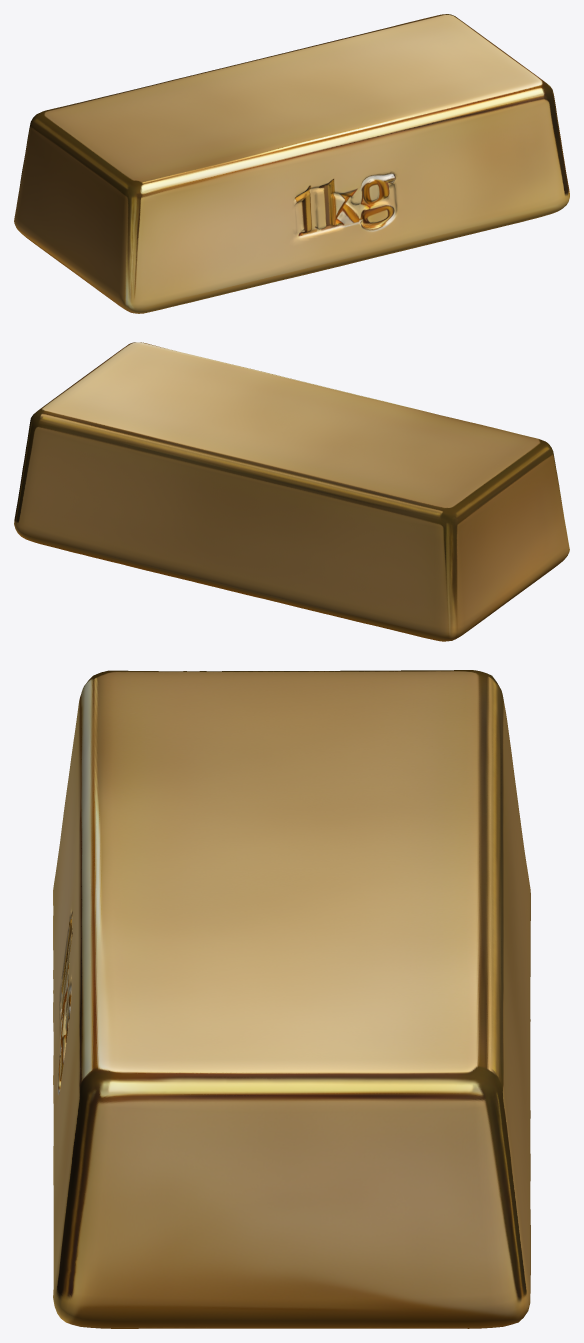
File: umbro.glb
3 renders of one model, top to bottom at view 1: azimuth 30°, elevation 25°; view 2: azimuth 150°, elevation 25°; view 3: azimuth 270°, elevation 25°, orthographic. The views are drawn at different scales.
Parts seen in each view (by area): view 1: model; view 2: model; view 3: model.
Boxes of the visible parts, bbox=[...] form: model: bbox=[14, 14, 569, 313]; model: bbox=[14, 342, 569, 641]; model: bbox=[53, 670, 530, 1328].
Bounding box in the file's own units: 1.76 × 0.4851 × 0.8153.
1 material, 1 textured.
